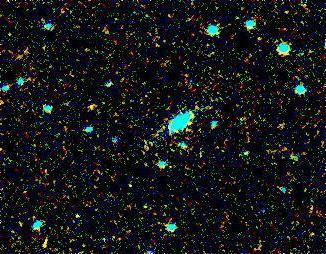star: (77, 94, 107, 124)
